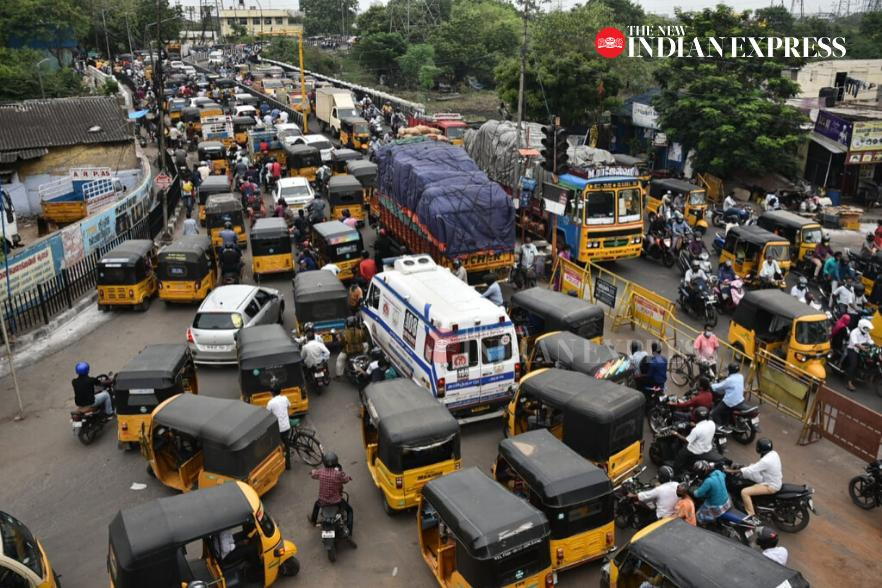ambulance: (364, 264, 524, 409)
